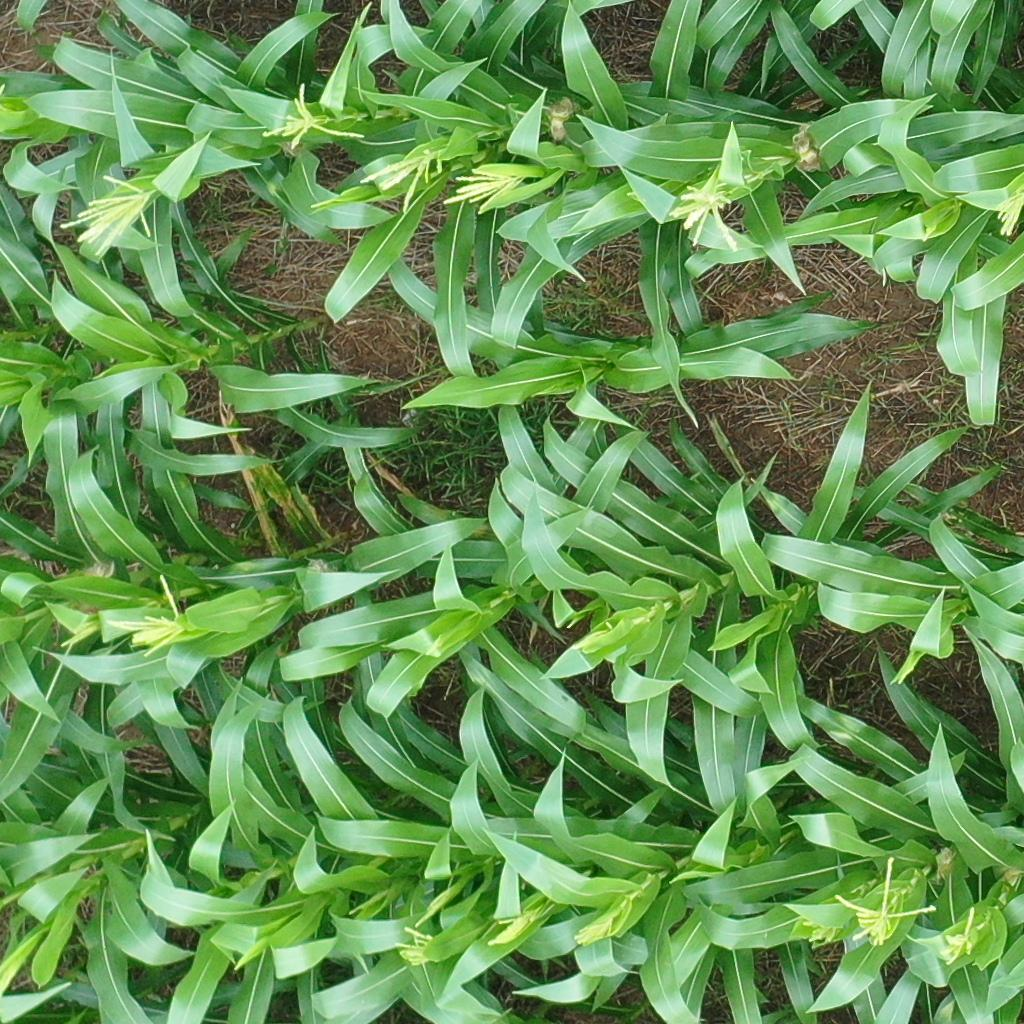Tassel: (838, 853, 938, 946), (58, 170, 159, 255), (260, 79, 364, 148), (670, 174, 747, 255), (123, 574, 194, 659), (364, 154, 436, 213), (441, 167, 525, 215), (387, 920, 443, 967), (942, 900, 981, 967), (490, 911, 539, 946), (990, 187, 1024, 235), (571, 910, 616, 946), (795, 915, 838, 952)
